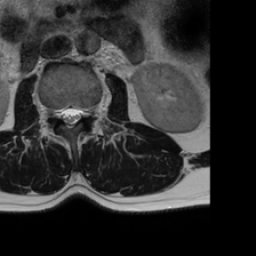CCS_normal: (67, 97, 75, 135)
LFS_normal: (83, 97, 91, 124)
LLS_normal: (75, 97, 83, 127)
RFS_normal: (52, 98, 59, 125)
RLS_normal: (59, 98, 67, 128)
